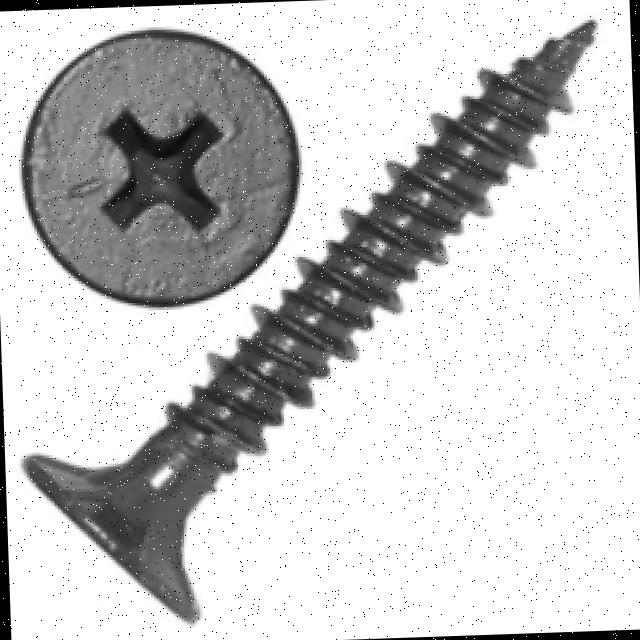Phillips: (17, 20, 306, 312)
